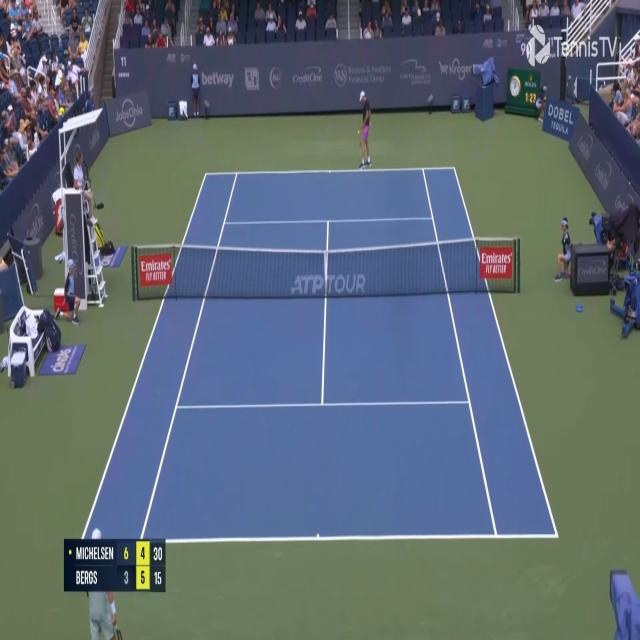tennis-player: (84, 528, 122, 640), (354, 87, 374, 171)
